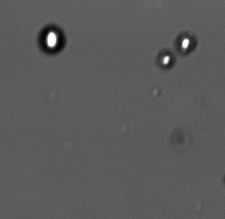Living Cell: (38, 23, 67, 54), (174, 31, 198, 55), (156, 47, 175, 69)
